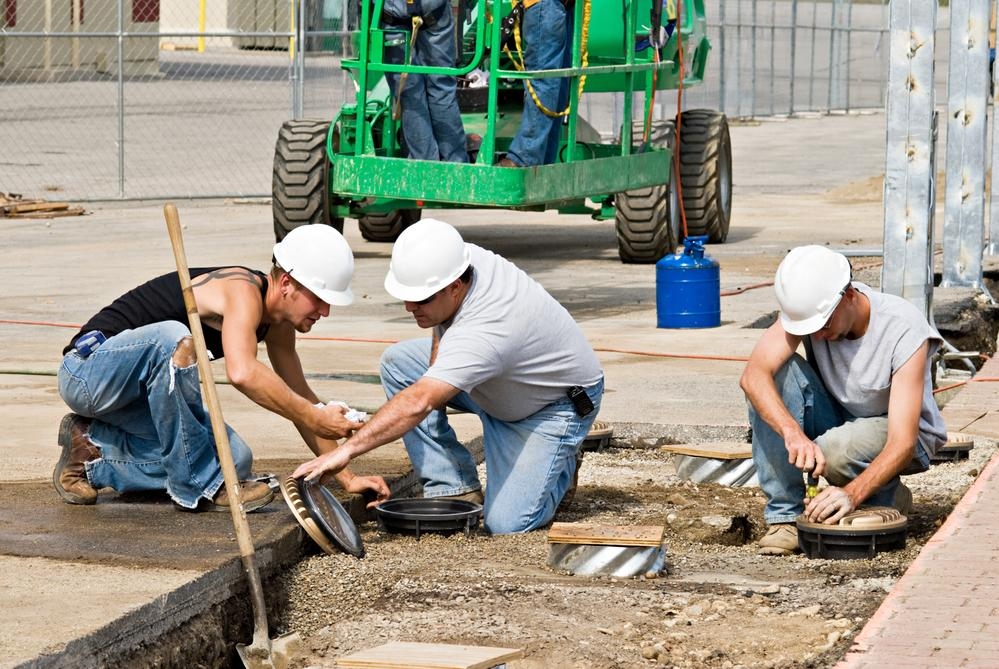helmet: (385, 219, 471, 307), (275, 224, 357, 310), (773, 243, 851, 332)
